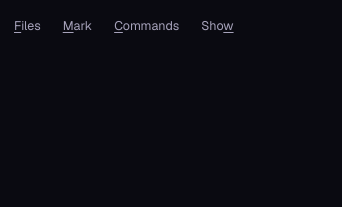
Test case: MenuBar › keeps focus on opener for group with no enabled items, navigates onward, and Escape closes
Click the menu item "Files": [27, 26] box left=4, top=12, right=51, bottom=40
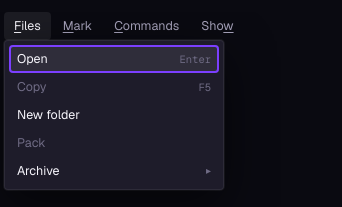
Press ArrowRight in the menu item "Open Enter", box left=9, top=45, right=219, bottom=73
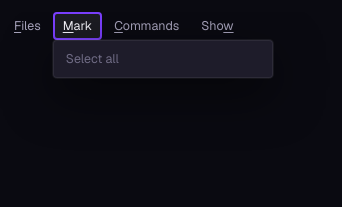
Expected: the menu item "Mark" is expanded
Press ArrowRight in the menu item "Mark", box left=53, top=12, right=102, bottom=40
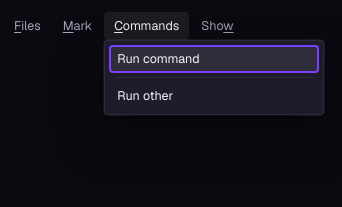
Press ArrowLeft in the menu item "Run command", box left=109, top=45, right=319, bottom=73
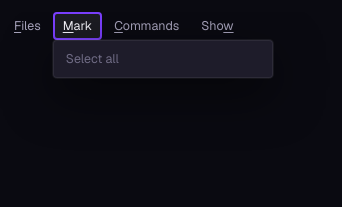
Press Escape in the menu item "Mark", box left=53, top=12, right=102, bottom=40
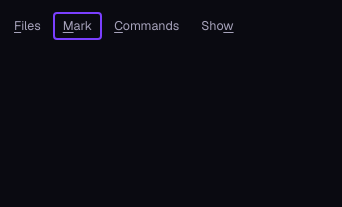
Expected: the menu is gone
